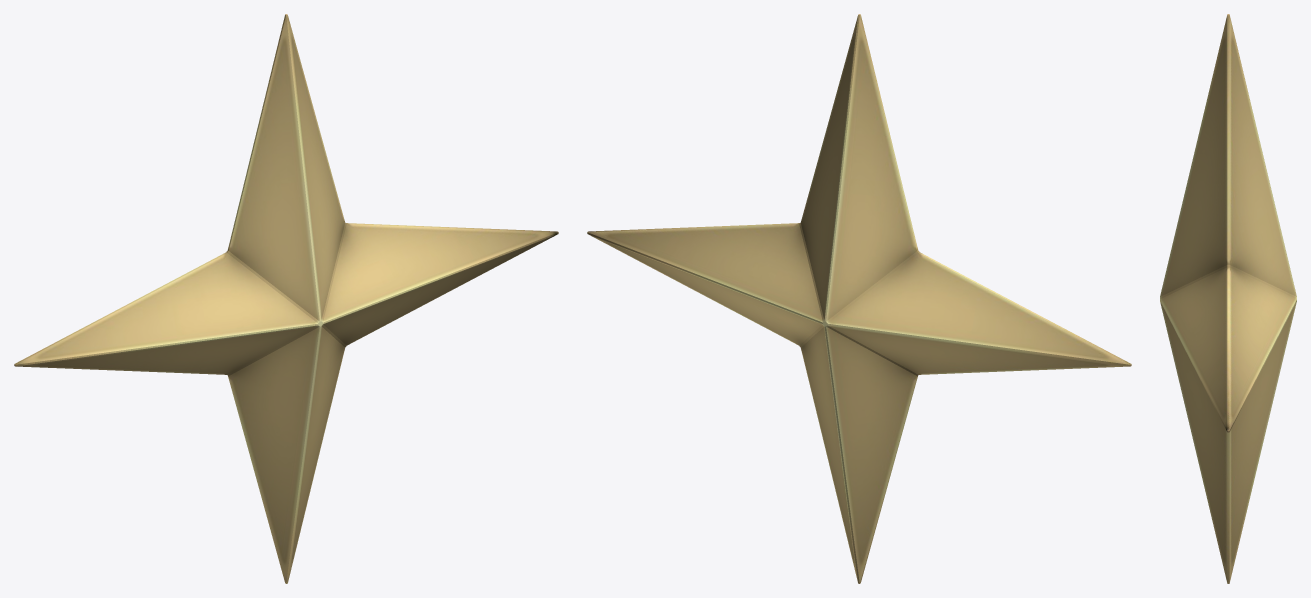
Rendered from star(4).glb.
3 views of the same model, side by side, from view 1: azimuth 30°, elevation 25°; view 2: azimuth 150°, elevation 25°; view 3: azimuth 270°, elevation 25° (orthographic).
Parts seen in each view (by area): view 1: star-4; view 2: star-4; view 3: star-4.
Part boxes in pixels (<box>): star-4: <box>14,14,558,583</box>; star-4: <box>587,14,1131,583</box>; star-4: <box>1160,14,1296,583</box>.
Size of the model in its own units: 0.2582 by 0.2582 by 0.0562.
Materials: 1 (1 with a texture image).
